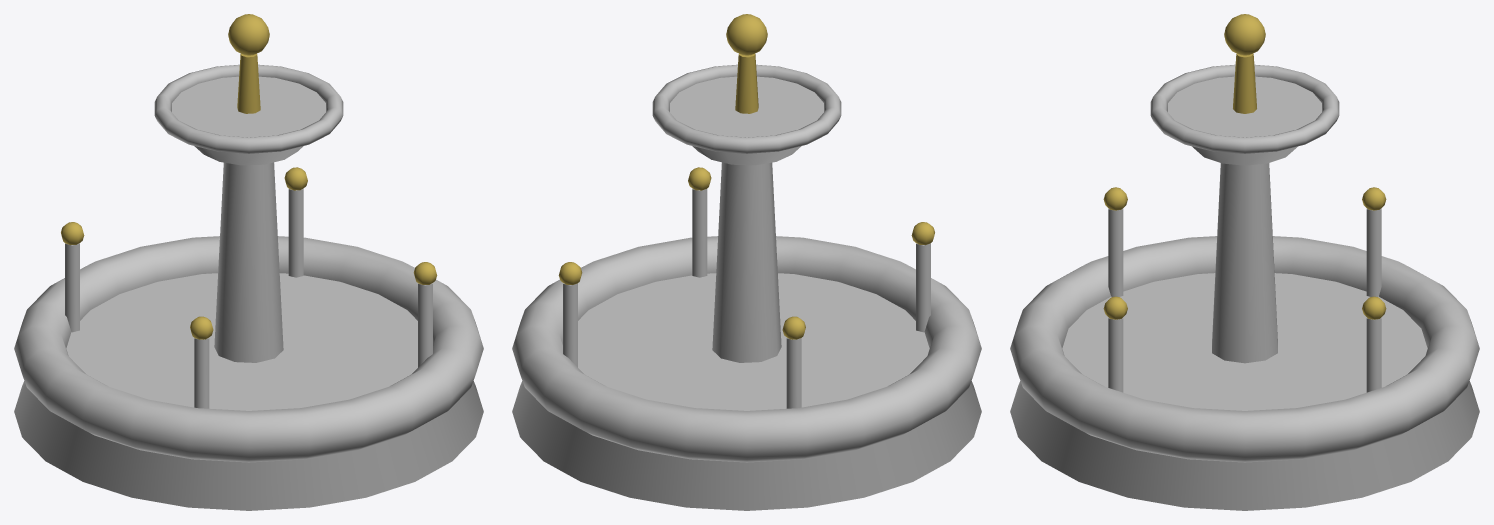
3 renders of one model, left to right at view 1: azimuth 30°, elevation 25°; view 2: azimuth 150°, elevation 25°; view 3: azimuth 270°, elevation 25°, orthographic.
Visible parts, largest first — view 1: BaseWall, BaseRim, Pillar, UpperBowl, UpperRim, Post3, TopOrb, Post2, TopPillar, Post0, Post1; view 2: BaseWall, BaseRim, Pillar, UpperBowl, UpperRim, Post0, TopOrb, Post1, TopPillar, Post3, Post2; view 3: BaseWall, BaseRim, Pillar, UpperBowl, UpperRim, Post1, Post2, TopOrb, TopPillar, Post0, Post3.
Boxes of the visible parts, x1=… form: BaseWall: x1=14, y1=273, x2=483, y2=510; BaseRim: x1=14, y1=236, x2=483, y2=462; Pillar: x1=214, y1=162, x2=283, y2=362; UpperBowl: x1=172, y1=76, x2=325, y2=165; UpperRim: x1=154, y1=64, x2=343, y2=153; Post3: x1=288, y1=188, x2=303, y2=277; TopOrb: x1=228, y1=14, x2=269, y2=55; Post2: x1=65, y1=243, x2=79, y2=332; TopPillar: x1=237, y1=53, x2=260, y2=113; Post0: x1=418, y1=283, x2=432, y2=367; Post1: x1=194, y1=337, x2=209, y2=408; BaseWall: x1=512, y1=273, x2=981, y2=510; BaseRim: x1=512, y1=236, x2=981, y2=462; Pillar: x1=712, y1=162, x2=781, y2=362; UpperBowl: x1=670, y1=76, x2=823, y2=165; UpperRim: x1=652, y1=64, x2=841, y2=153; Post0: x1=692, y1=188, x2=707, y2=277; TopOrb: x1=726, y1=14, x2=767, y2=55; Post1: x1=916, y1=243, x2=930, y2=332; TopPillar: x1=735, y1=53, x2=758, y2=113; Post3: x1=563, y1=283, x2=577, y2=367; Post2: x1=786, y1=337, x2=801, y2=408; BaseWall: x1=1010, y1=273, x2=1479, y2=510; BaseRim: x1=1010, y1=236, x2=1479, y2=462; Pillar: x1=1212, y1=163, x2=1277, y2=363; UpperBowl: x1=1168, y1=76, x2=1321, y2=165; UpperRim: x1=1150, y1=64, x2=1339, y2=153; Post1: x1=1108, y1=208, x2=1123, y2=296; Post2: x1=1366, y1=208, x2=1381, y2=296; TopOrb: x1=1224, y1=14, x2=1265, y2=55; TopPillar: x1=1233, y1=53, x2=1256, y2=113; Post0: x1=1108, y1=317, x2=1123, y2=392; Post3: x1=1366, y1=317, x2=1381, y2=392.
Bounding box in the file's own units: 2.7 × 2.51 × 2.7.
